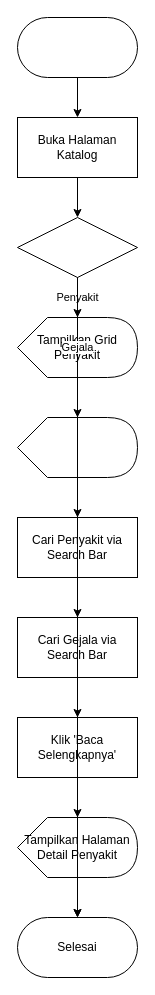
Some shapes in this 155 by 995 pixel diagram are drawn without their labels. The box of each missing label's shape, as (x1, y1, x2, y2) in pixels:
Mulai: (16, 16, 138, 78)
Pilih Tab Informasi: (16, 216, 138, 278)
Tampilkan Grid Gejala: (16, 416, 138, 478)
